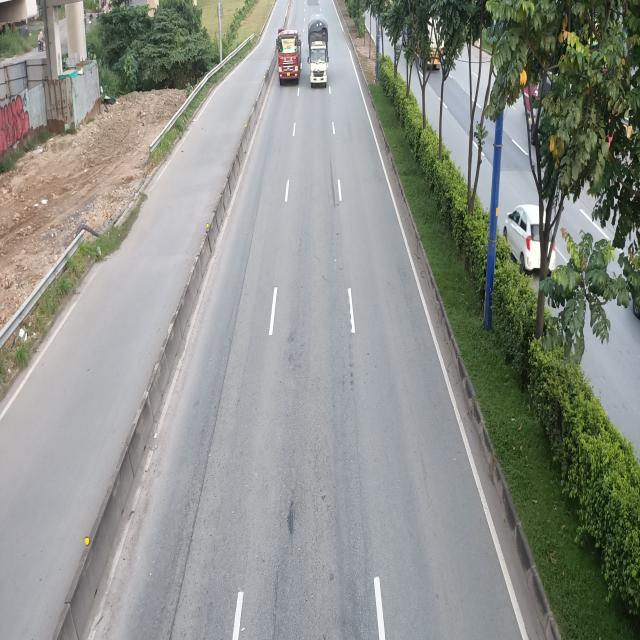container: (276, 28, 302, 86)
truck: (306, 13, 328, 89)
